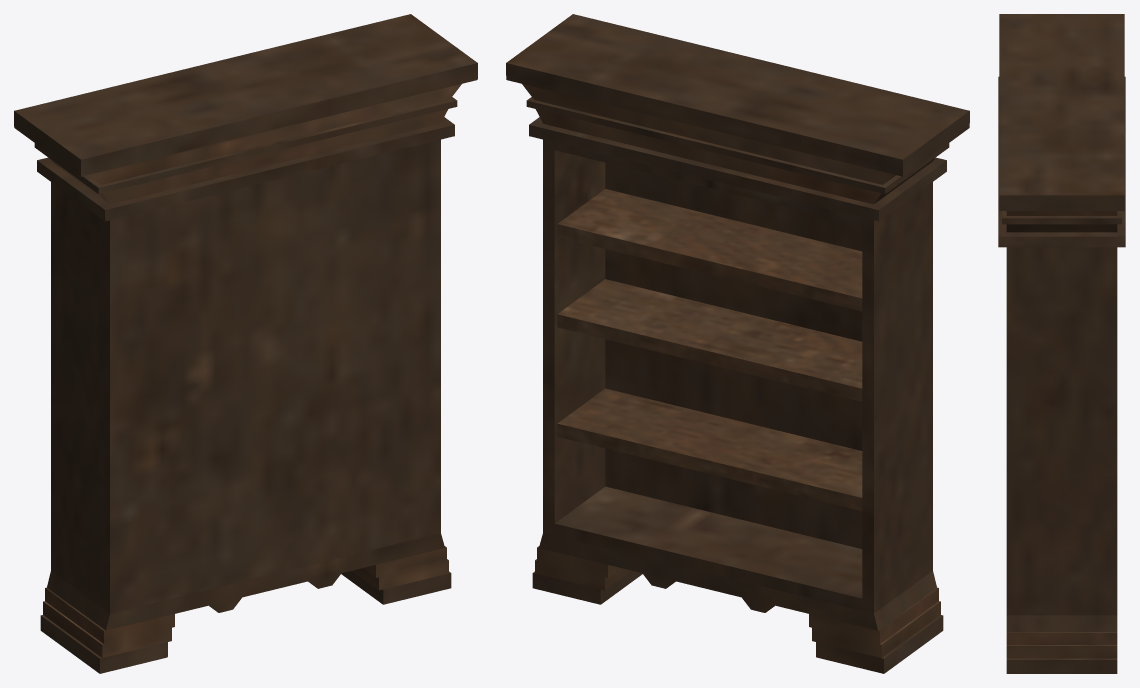
File: Shelf.fbx
The picture shows the model from 3 angles, left to right: view 1: azimuth 30°, elevation 25°; view 2: azimuth 150°, elevation 25°; view 3: azimuth 270°, elevation 25°; orthographic projection. The views are drawn at different scales.
Parts seen in each view (by area): view 1: shelf; view 2: shelf; view 3: shelf.
Part boxes in pixels (x1,y1,x2,y2): shelf: [14, 14, 477, 673]; shelf: [506, 14, 969, 673]; shelf: [998, 14, 1125, 673].
Size of the model in its own units: 1.69 by 2.12 by 0.5025.
